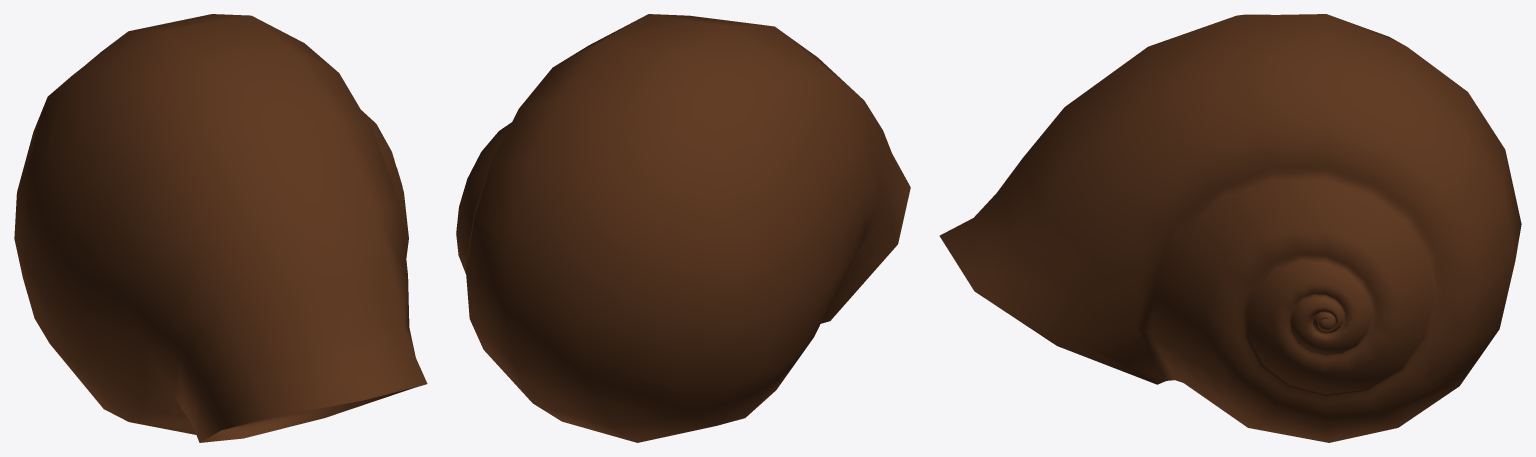
Rendered from snail_snail_shell_triangulated.obj.
3 renders of one model, left to right at view 1: azimuth 30°, elevation 25°; view 2: azimuth 150°, elevation 25°; view 3: azimuth 270°, elevation 25°, orthographic. The views are drawn at different scales.
Size of the model in its own units: 0.0278 by 0.0299 by 0.0407.
